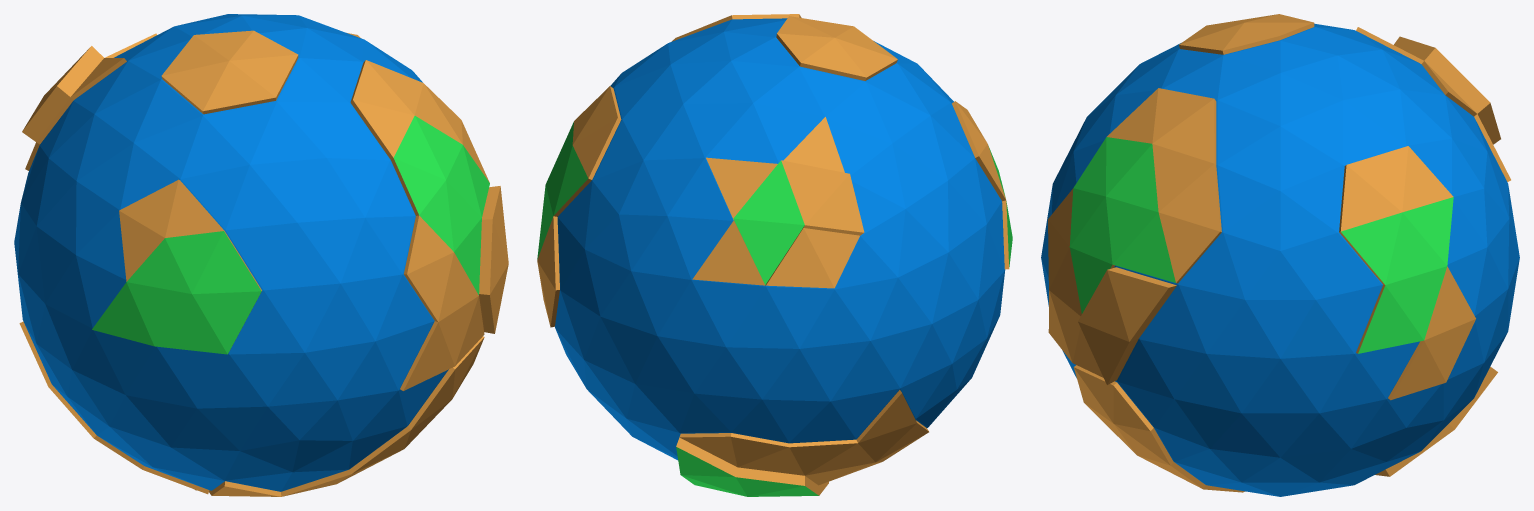
Rendered from playerPlanet_withGreen.fbx.
The picture shows the model from 3 angles, left to right: view 1: azimuth 30°, elevation 25°; view 2: azimuth 150°, elevation 25°; view 3: azimuth 270°, elevation 25°; orthographic projection. The views are drawn at different scales.
Parts seen in each view (by area): view 1: Icosphere.001, Icosphere; view 2: Icosphere.001, Icosphere; view 3: Icosphere.001, Icosphere.
Part boxes in pixels (box(x1,y1,x2,y2)): Icosphere.001: box(14, 14, 448, 491); Icosphere: box(19, 30, 508, 496); Icosphere.001: box(555, 18, 1005, 460); Icosphere: box(537, 14, 1012, 496); Icosphere.001: box(1041, 23, 1519, 496); Icosphere: box(1048, 14, 1510, 492).
Size of the model in its own units: 209 by 214 by 209.
